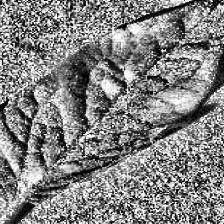leaf mold: (0, 0, 224, 191)
